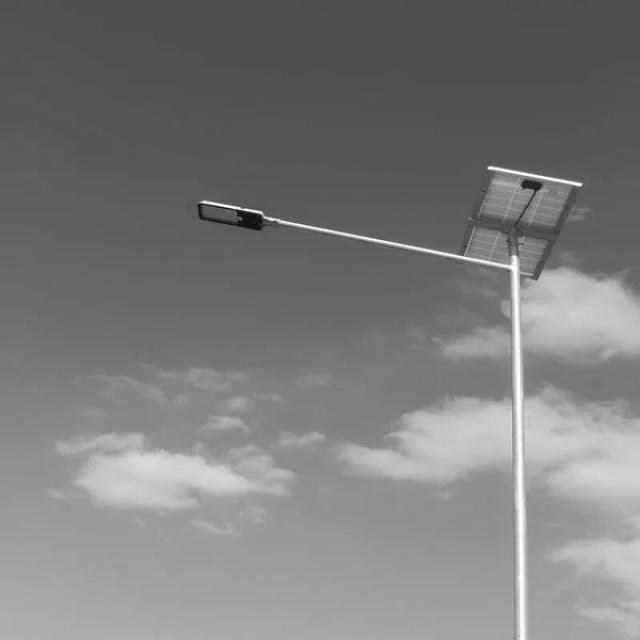Pole: (511, 230, 530, 640)
